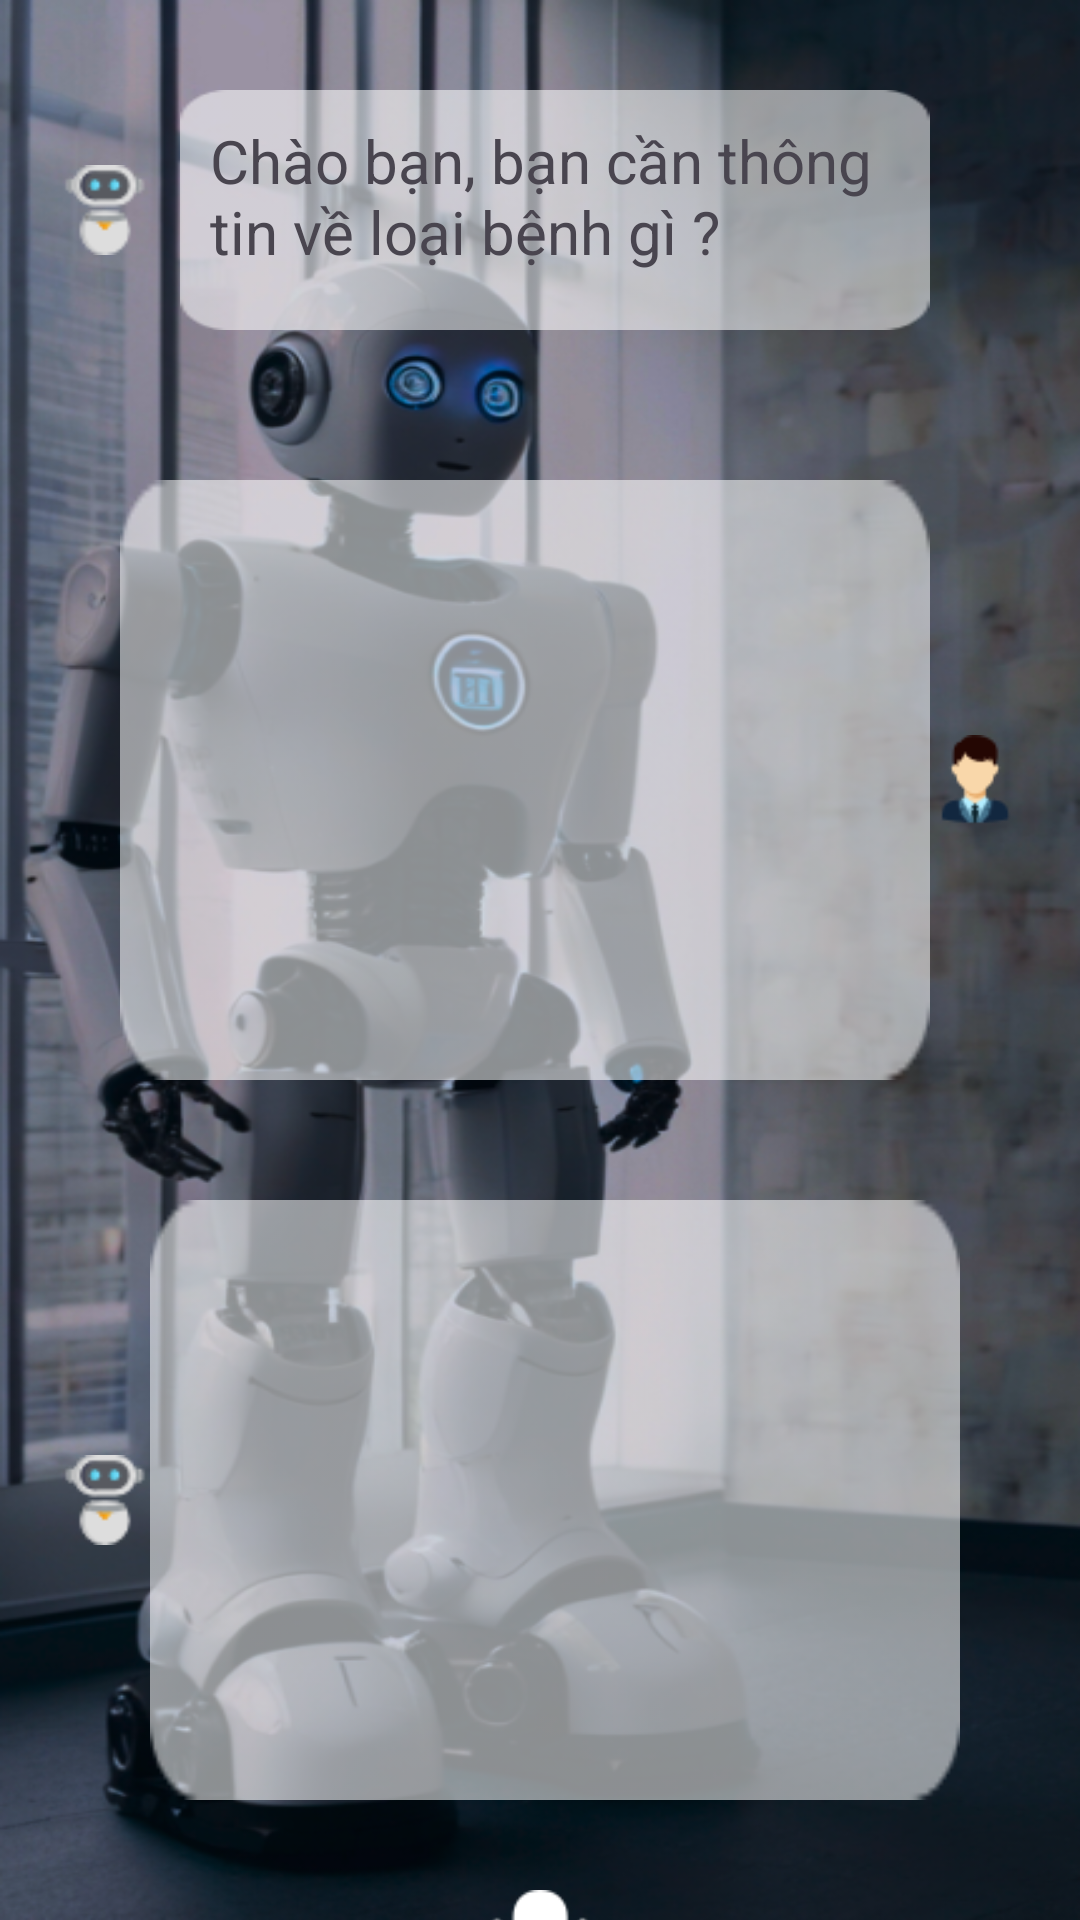

Screen size 1080x1920. Icon name, then its center in pixels as (x,y):
user: (975,779)
